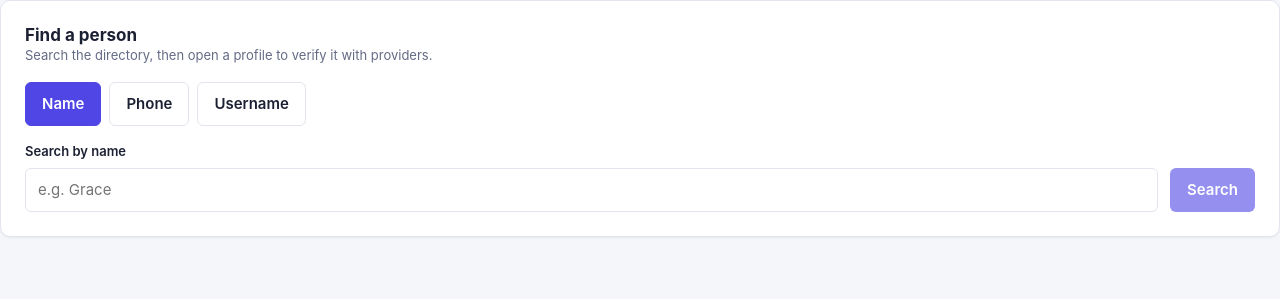
Test: SearchPage › shows empty and validation states
Type "zzz" into the search field labelled "Search by name".
click(592, 190); type("zzz")  # box [25, 168, 1158, 212]
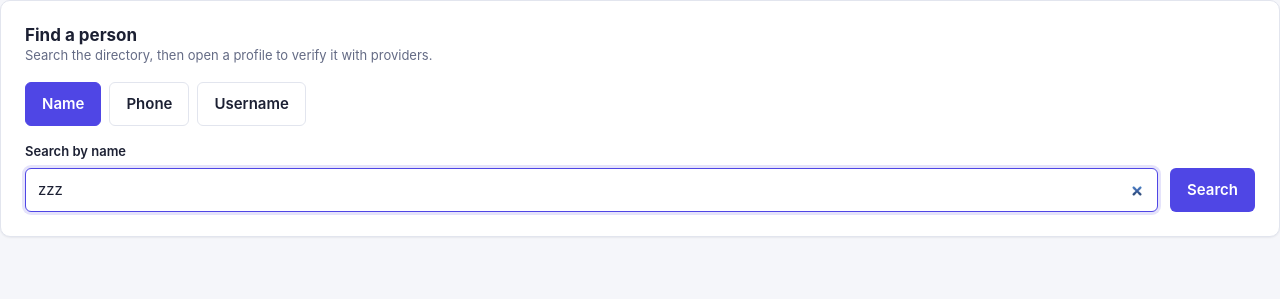
Click the button "Search".
click(1213, 190)  # box [1170, 168, 1255, 212]
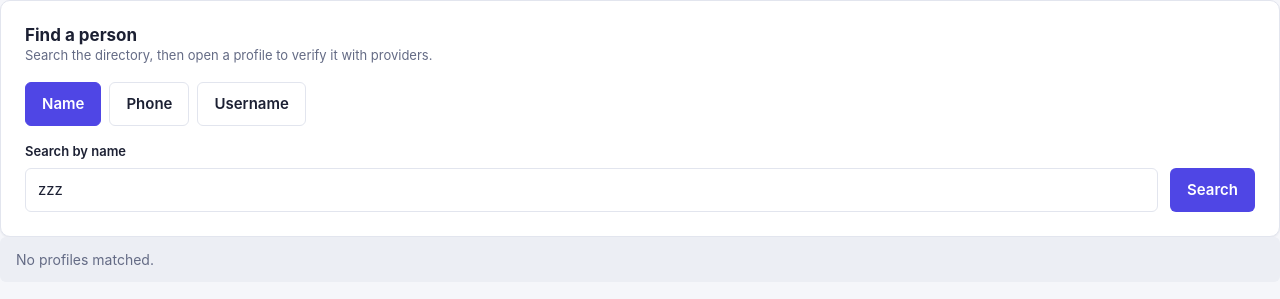
Expected: the text "No profiles matched." is shown, [0, 237, 1279, 282]
Click the button "Search".
click(1213, 190)  # box [1170, 168, 1255, 212]
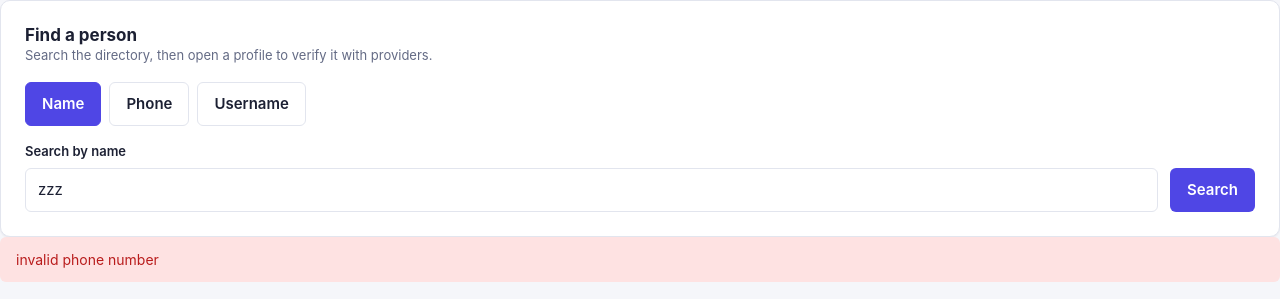
Expected: the message reads "invalid phone number", [16, 251, 159, 268]
